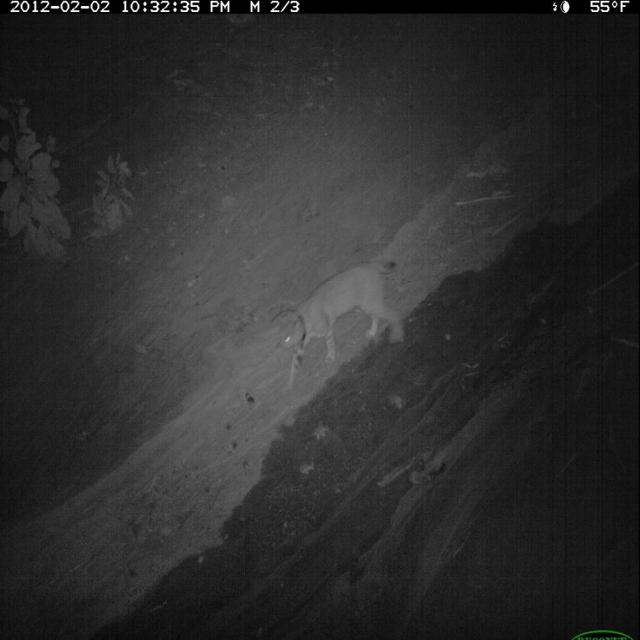bobcat: (276, 252, 408, 392)
